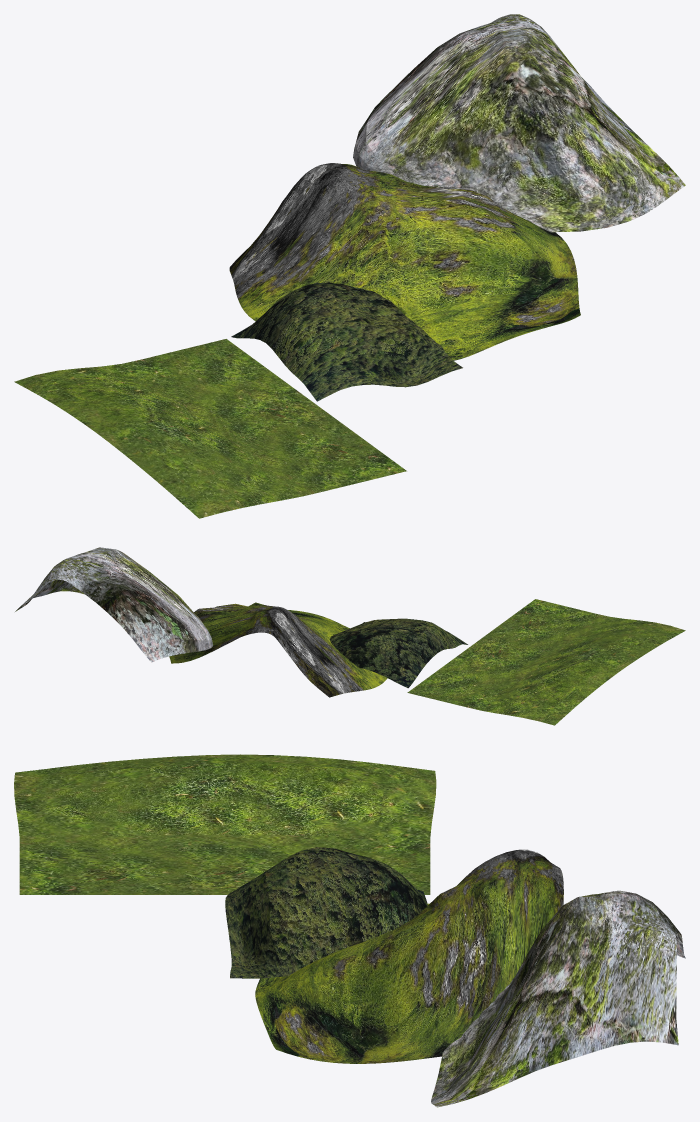
File: mountains.glb
3 views of the same model, one above another, from view 1: azimuth 30°, elevation 25°; view 2: azimuth 150°, elevation 25°; view 3: azimuth 270°, elevation 25° (orthographic). The views are drawn at different scales.
Parts seen in each view (by area): view 1: part0, part2, part1, part3; view 2: part1, part0, part2, part3; view 3: part1, part2, part0, part3.
Part boxes in pixels (x1,y1,x2,y2): part0: (353, 14, 685, 232); part2: (229, 163, 580, 360); part1: (14, 339, 406, 518); part3: (231, 282, 462, 401); part1: (407, 599, 685, 725); part0: (15, 547, 212, 662); part2: (169, 602, 387, 697); part3: (329, 618, 467, 688); part1: (14, 754, 436, 894); part2: (255, 849, 563, 1063); part0: (431, 890, 685, 1107); part3: (225, 847, 427, 978).
Bounding box in the file's own units: 2768 × 690 × 2098.
4 materials, 4 textured.
